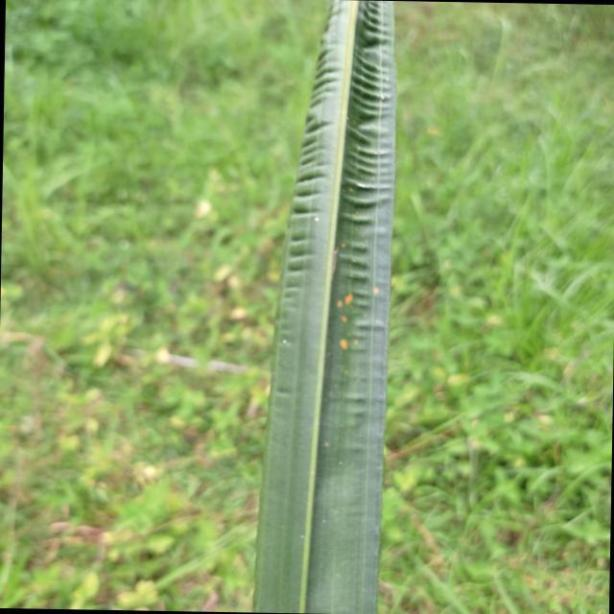Boron: (246, 0, 397, 614)
